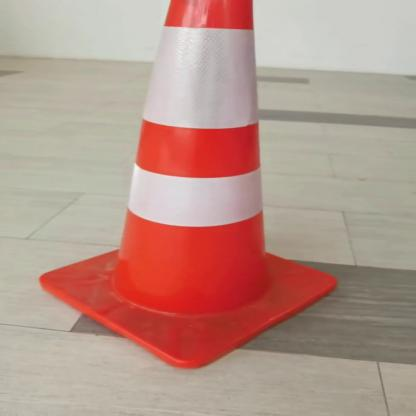cone: (33, 2, 345, 371)
